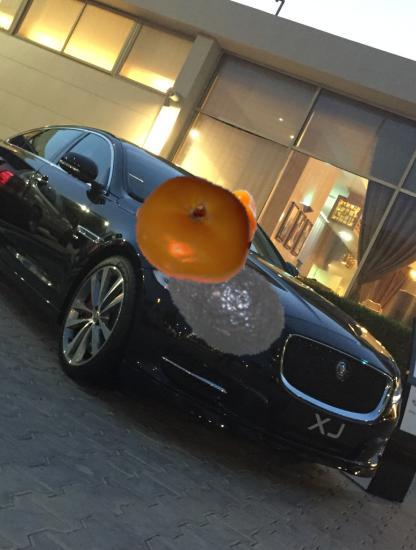Avocado: (159, 240, 288, 369)
Pepper: (186, 186, 266, 266)
Tomato: (134, 170, 254, 290)
